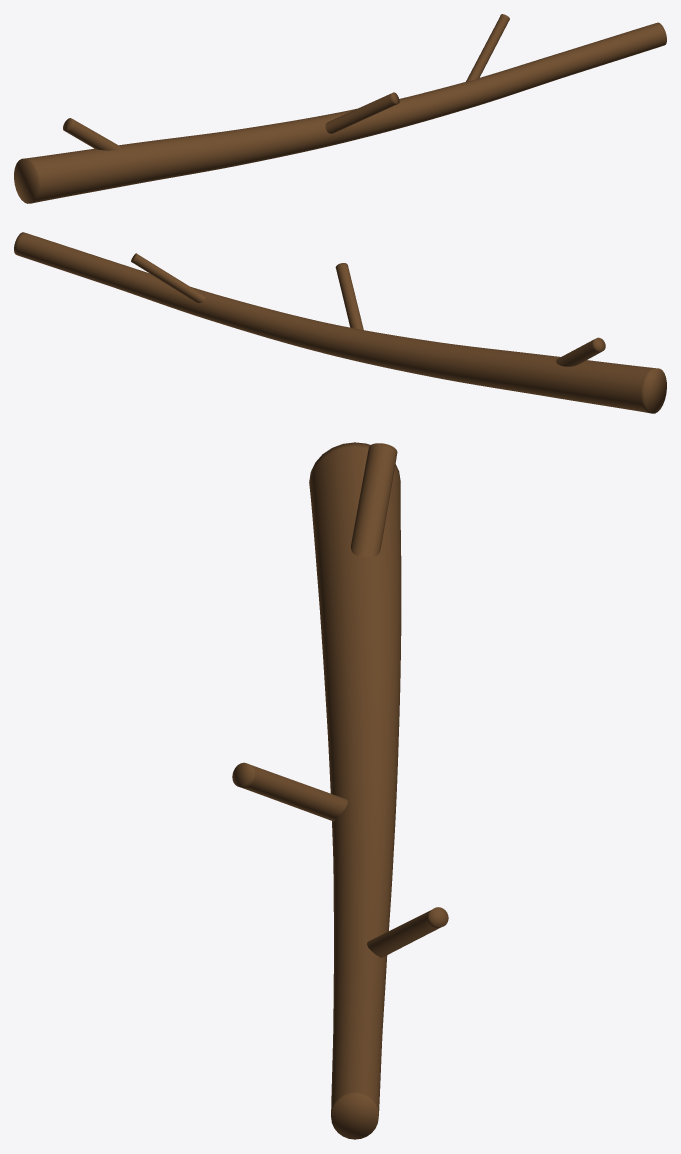
Rendered from stick_d.glb.
3 renders of one model, top to bottom at view 1: azimuth 30°, elevation 25°; view 2: azimuth 150°, elevation 25°; view 3: azimuth 270°, elevation 25°, orthographic. The views are drawn at different scales.
Parts seen in each view (by area): view 1: Shaft, Twig2, Twig3, Twig1; view 2: Shaft, Twig1, Twig2, Twig3; view 3: Shaft, Twig3, Twig2, Twig1.
Boxes of the visible parts, bbox=[...] form: Shaft: bbox=[14, 22, 666, 203]; Twig2: bbox=[325, 92, 399, 133]; Twig3: bbox=[63, 118, 120, 150]; Twig1: bbox=[466, 14, 509, 81]; Shaft: bbox=[14, 232, 666, 413]; Twig1: bbox=[131, 253, 205, 302]; Twig2: bbox=[335, 263, 363, 329]; Twig3: bbox=[556, 337, 605, 366]; Shaft: bbox=[309, 442, 401, 1139]; Twig3: bbox=[351, 443, 397, 557]; Twig2: bbox=[232, 762, 347, 821]; Twig1: bbox=[367, 907, 448, 957].
Bounding box in the file's own units: 0.5223 × 0.0659 × 0.0767.
